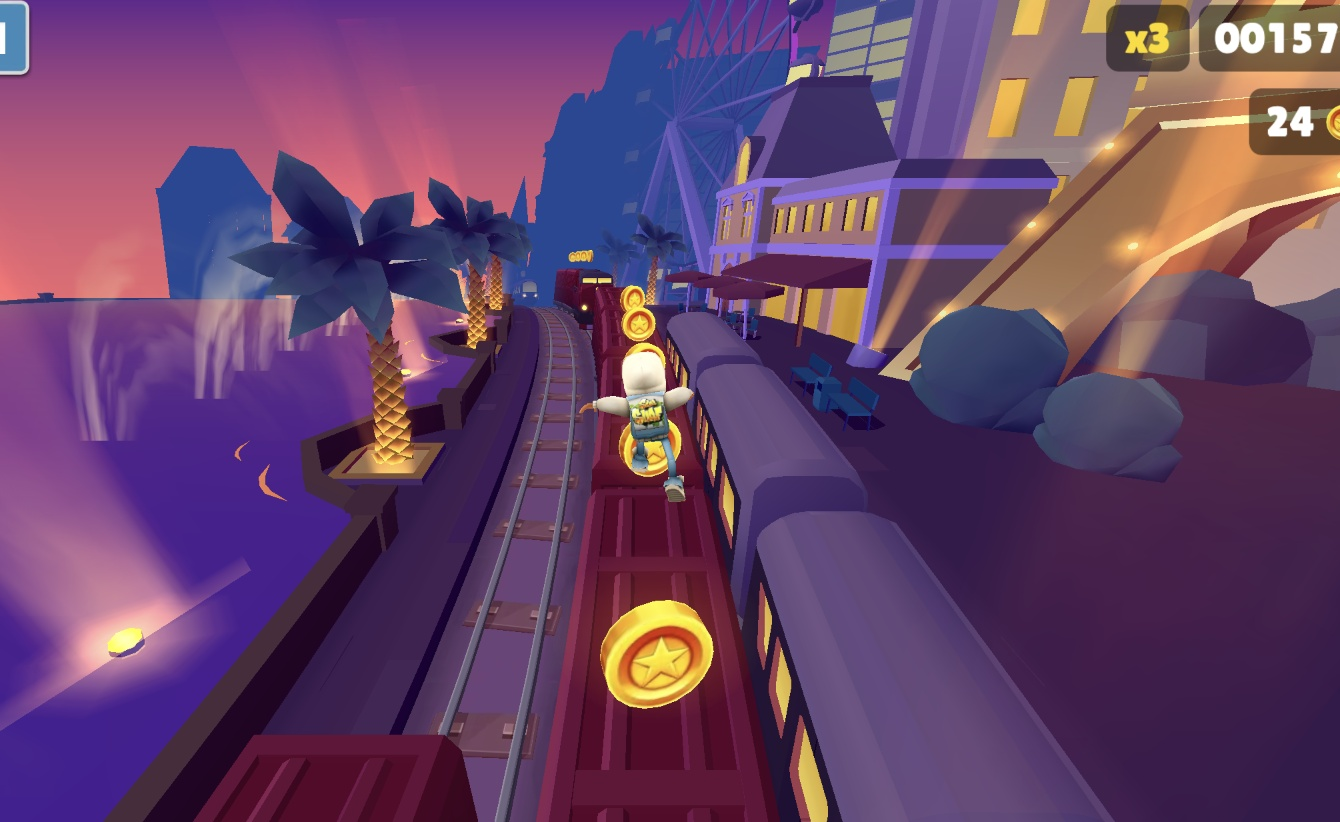train: (640, 312, 1340, 822), (495, 336, 802, 822), (185, 722, 500, 822), (550, 268, 609, 323), (522, 281, 539, 300)
